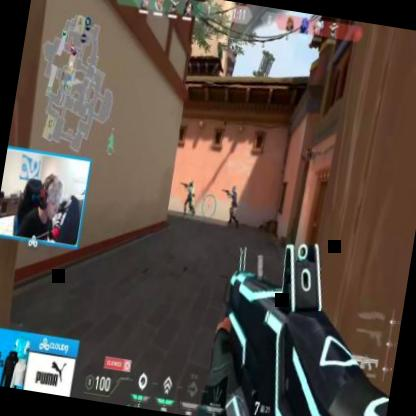enemy: (222, 181, 242, 228), (180, 175, 200, 221)
enemy_head: (188, 178, 194, 188), (231, 183, 236, 193)
